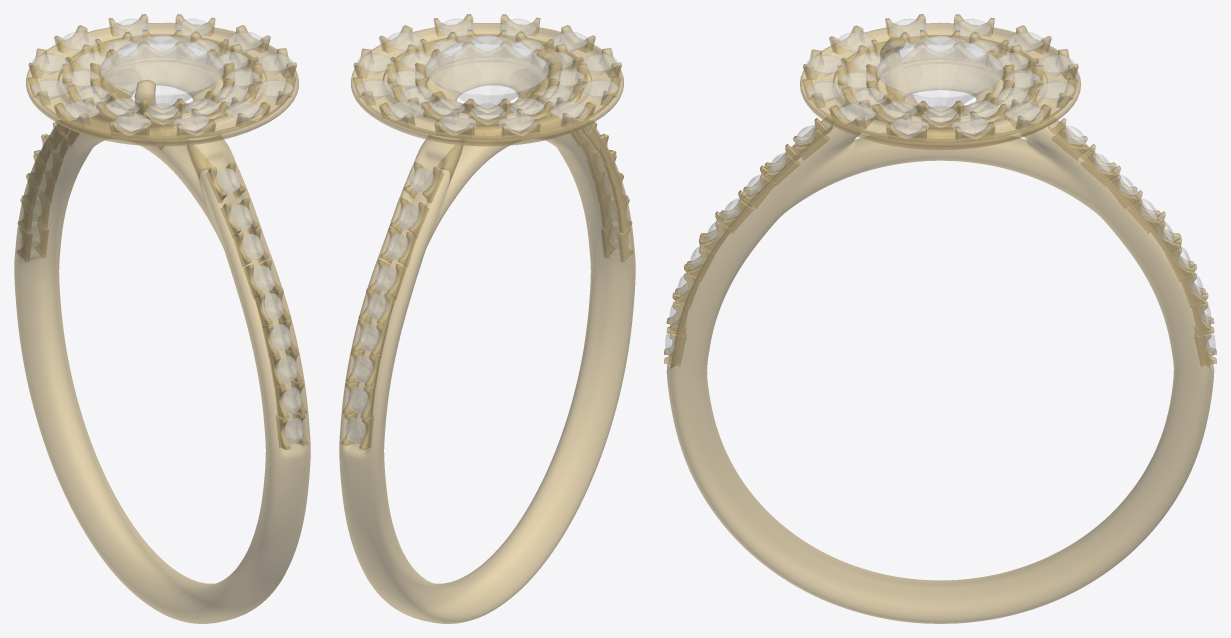
3 renders of one model, left to right at view 1: azimuth 30°, elevation 25°; view 2: azimuth 150°, elevation 25°; view 3: azimuth 270°, elevation 25°, orthographic. The views are drawn at different scales.
Parts seen in each view (by area): view 1: Ring, Diamond; view 2: Ring, Diamond; view 3: Ring, Diamond.
Part boxes in pixels (bbox=[...]): Ring: bbox=[14, 14, 310, 623]; Diamond: bbox=[21, 19, 303, 443]; Ring: bbox=[339, 14, 635, 623]; Diamond: bbox=[346, 19, 628, 443]; Ring: bbox=[664, 14, 1216, 623]; Diamond: bbox=[665, 19, 1215, 355].
Bounding box in the file's own units: 1.18 × 2.64 × 2.33.
